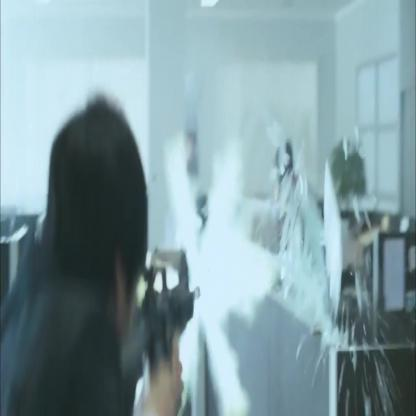Gun: (79, 223, 212, 414)
